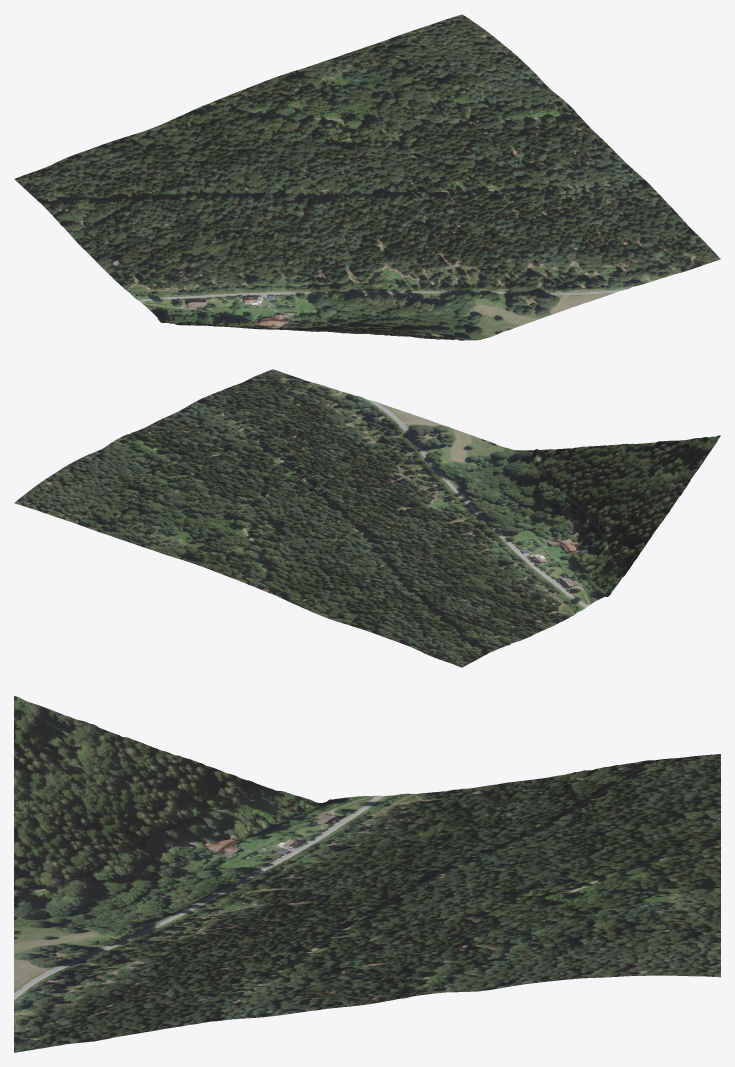
File: terrain_3_3.glb
3 views of the same model, one above another, from view 1: azimuth 30°, elevation 25°; view 2: azimuth 150°, elevation 25°; view 3: azimuth 270°, elevation 25° (orthographic). The views are drawn at different scales.
Visible parts, largest first — view 1: geometry_0; view 2: geometry_0; view 3: geometry_0.
Part boxes in pixels (x1,y1,x2,y2): geometry_0: (14, 14, 720, 340); geometry_0: (14, 369, 720, 667); geometry_0: (14, 696, 720, 1052).
Size of the model in its own units: 499 by 98.23 by 499.
1 material, 1 textured.
